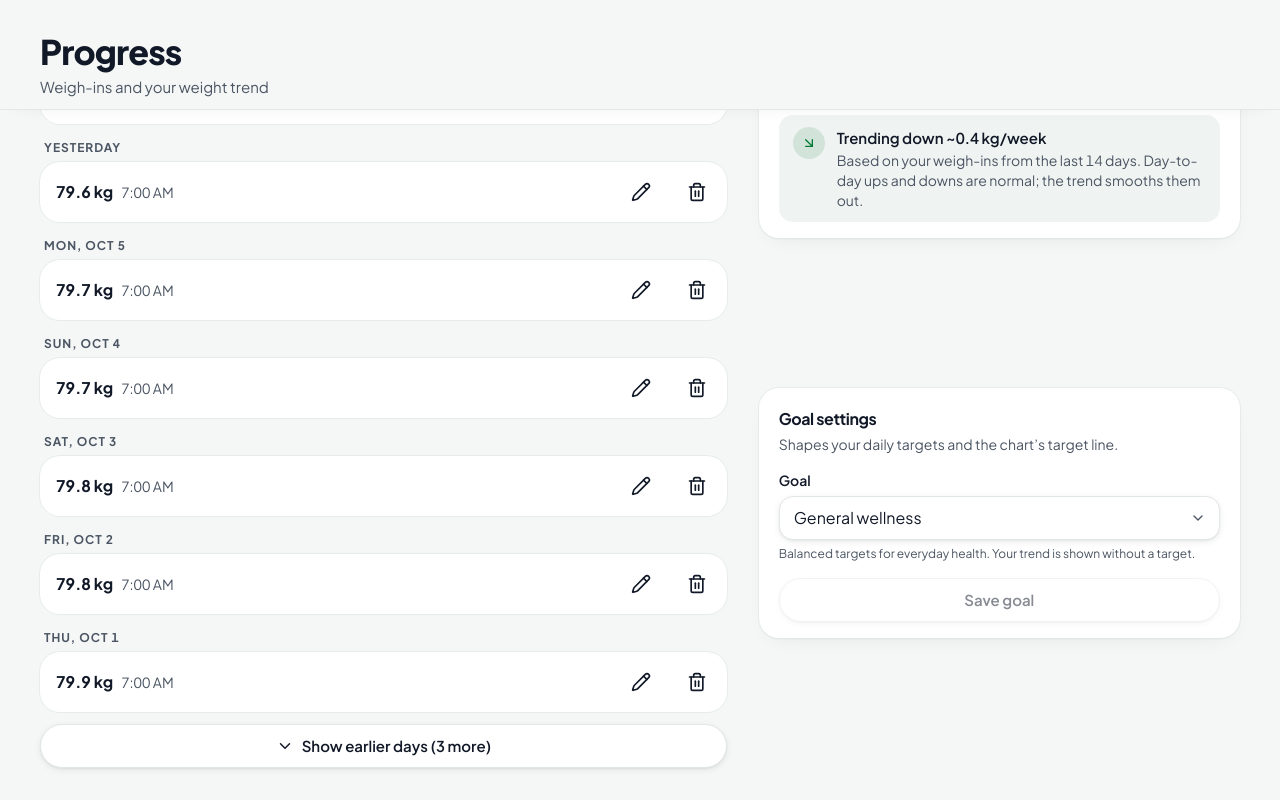
it: Progress: goal settings › saves a weight-loss goal with pace and target, then shows the estimate and target pace
(page scrolled)
Expected: the button "Save goal" is disabled, [779,578,1220,622]
Expected: the element "Pace" is not shown
Select "Lose weight" in the dropdown labelled "Goal" at (999, 518), box [779,496,1220,540]
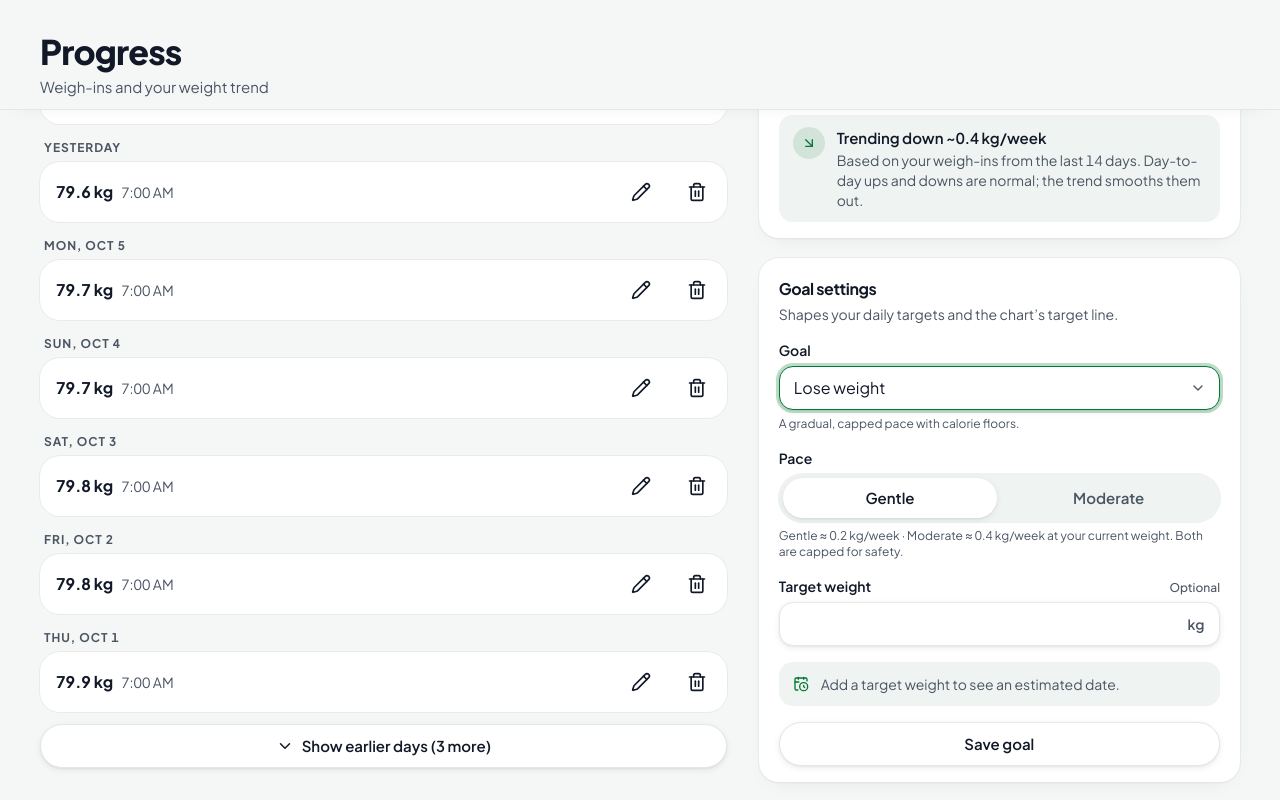
Expected: the radio button labelled "Gentle" is checked, [783,478,997,518]
Expected: the text "Gentle ≈ 0.2 kg/week · Moderate ≈ 0.4 kg/week" is shown, [779,528,1203,559]
Expected: the text "Add a target weight to see an estimated date." is shown, [821,674,1120,694]
Click the radio button labelled "Moderate".
click(1109, 497)  # box [1073,488,1144,507]
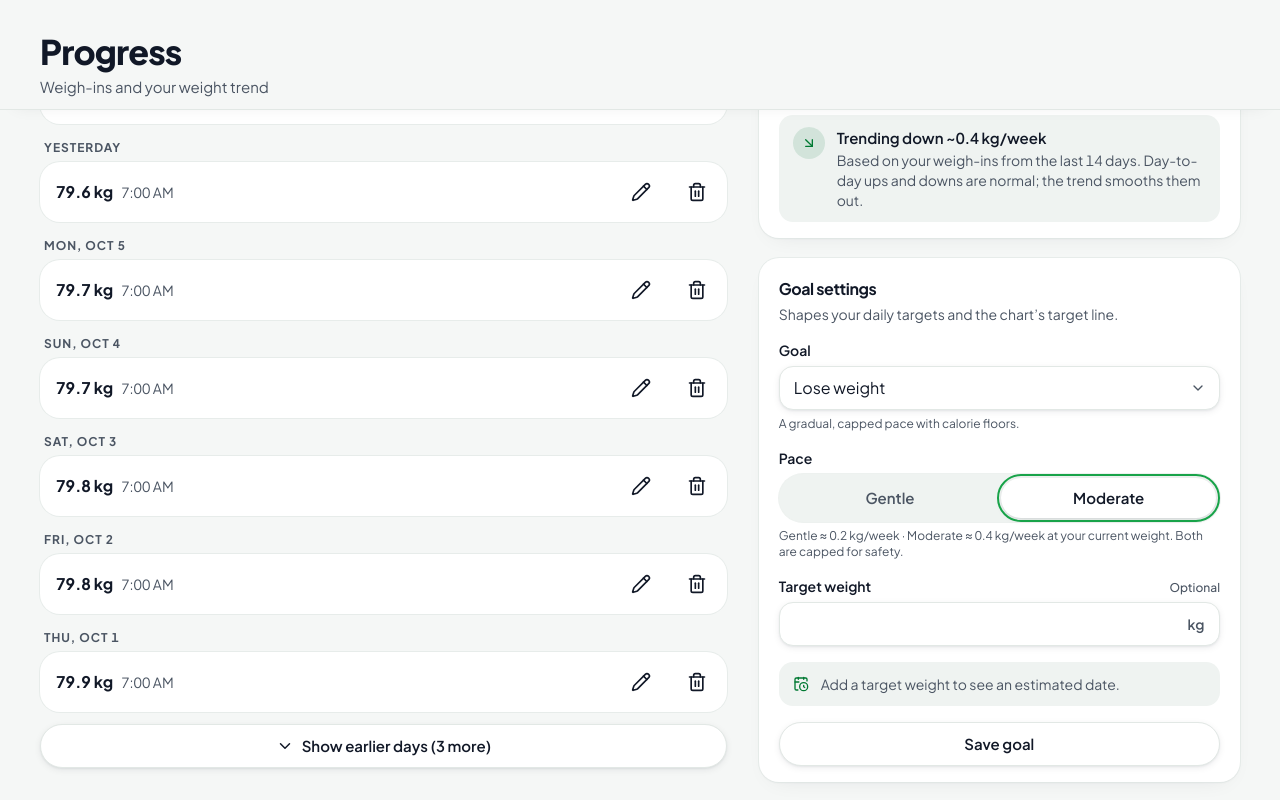
Type "74" into the field labelled "Target weight Optional".
click(999, 624); type("74")  # box [779,602,1220,646]
(page scrolled)
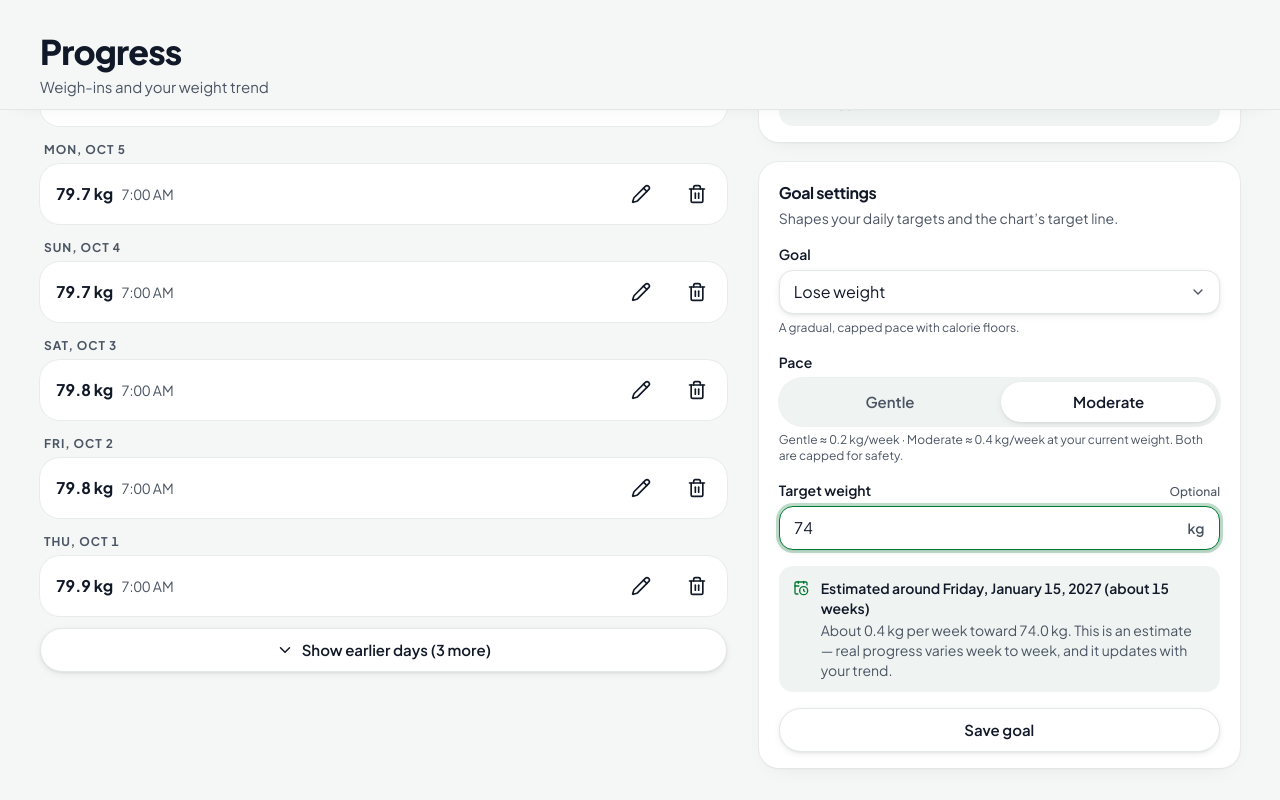
Expected: the button "Save goal" is enabled
Expected: the text "Estimated around Friday, January 15, 2027 (about 15 weeks)" is shown, [821,578,1206,618]
Expected: the text "This is an estimate — real progress varies" is shown, [821,621,1192,679]
Click the button "Save goal".
click(999, 730)  # box [779,708,1220,752]
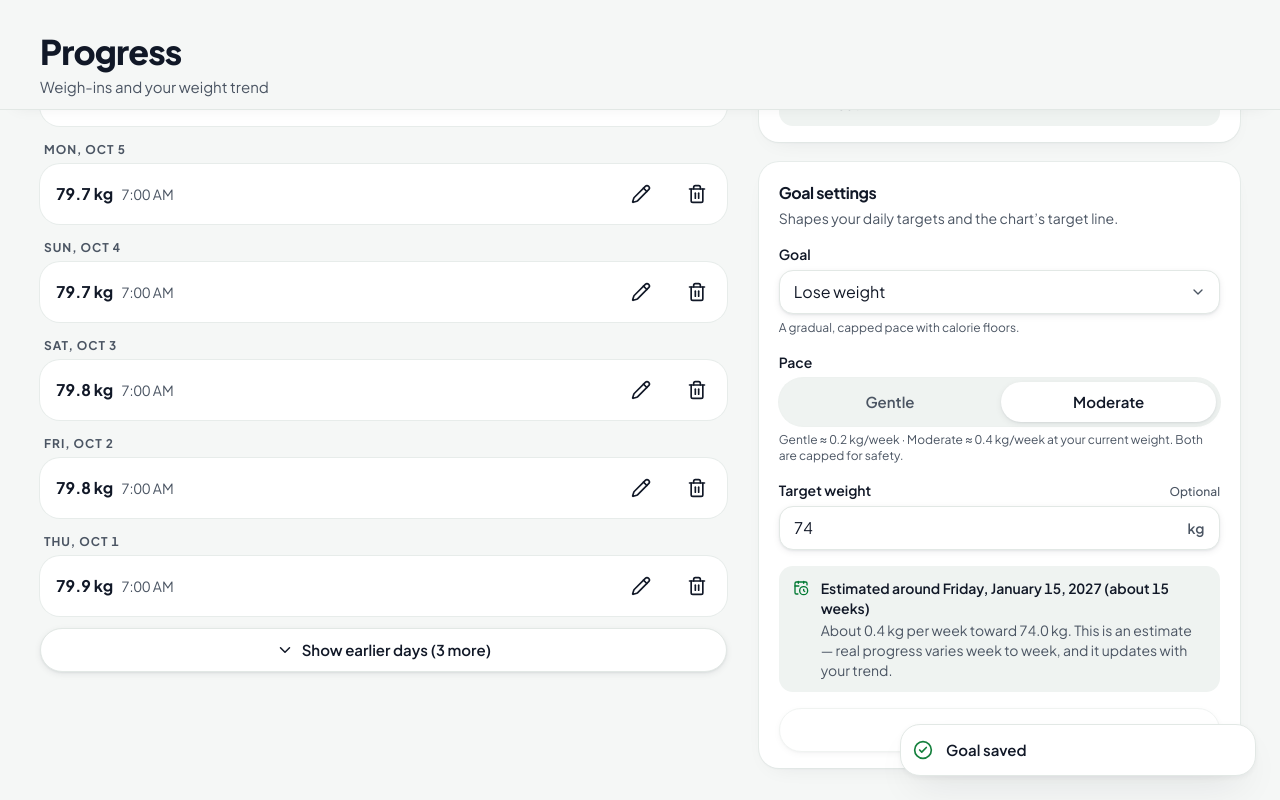
Expected: the text "Goal saved" is shown, [946,738,1026,761]
Expected: the button "Save goal" is disabled, [779,708,1220,752]
